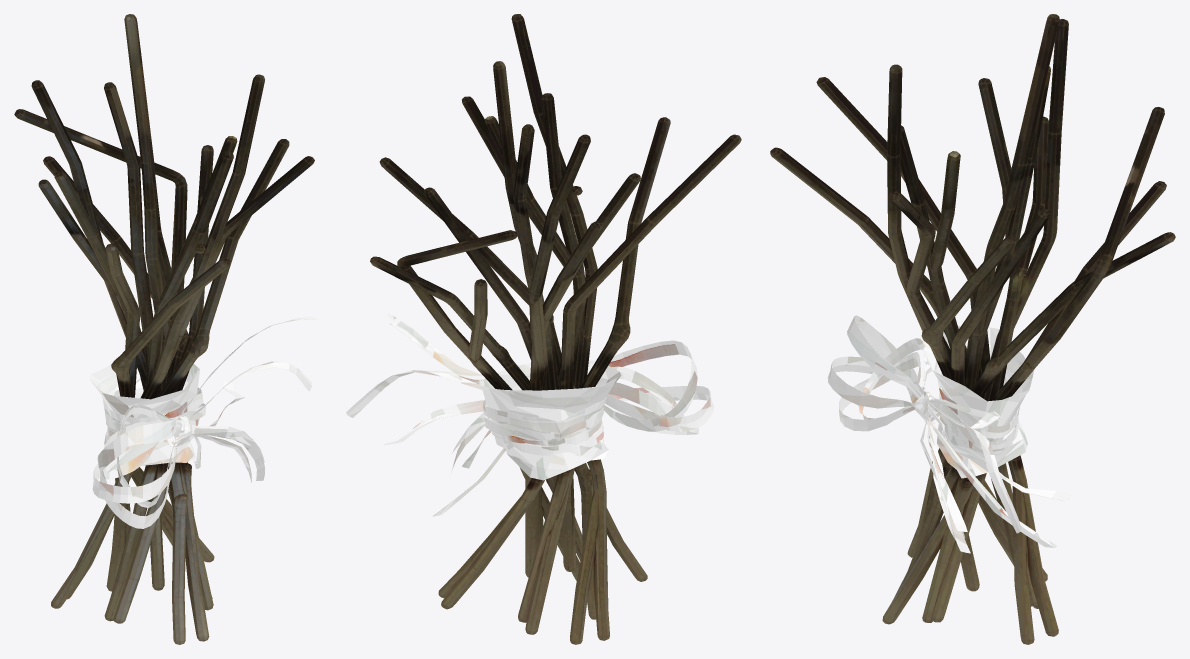
File: wedding.glb
3 views of the same model, side by side, from view 1: azimuth 30°, elevation 25°; view 2: azimuth 150°, elevation 25°; view 3: azimuth 270°, elevation 25° (orthographic). The views are drawn at different scales.
Visible parts, largest first — view 1: Stems, Ribbons_006, Ribbons_001, Ribbons_005, Ribbons_007, Ribbons_004, Ribbons_002; view 2: Stems, Ribbons_001, Ribbons_002, Ribbons_006, Ribbons_005, Ribbons_007, Ribbons_004; view 3: Stems, Ribbons_001, Ribbons_006, Ribbons_007, Ribbons_005, Ribbons_002, Ribbons_004.
Part boxes in pixels (box(x1,y1,x2,y2)): Stems: box(14, 14, 314, 644); Ribbons_006: box(97, 381, 264, 480); Ribbons_001: box(89, 364, 199, 465); Ribbons_005: box(92, 316, 317, 503); Ribbons_007: box(117, 361, 311, 507); Ribbons_004: box(99, 422, 251, 528); Ribbons_002: box(102, 387, 205, 444); Stems: box(370, 14, 741, 644); Ribbons_001: box(479, 360, 621, 480); Ribbons_002: box(482, 396, 606, 456); Ribbons_006: box(384, 340, 697, 475); Ribbons_005: box(384, 313, 714, 454); Ribbons_007: box(346, 366, 676, 516); Ribbons_004: box(462, 382, 698, 468); Stems: box(770, 14, 1175, 644); Ribbons_001: box(923, 326, 1033, 478); Ribbons_006: box(847, 315, 1070, 553); Ribbons_007: box(858, 338, 1057, 547); Ribbons_005: box(827, 356, 1001, 531); Ribbons_002: box(937, 378, 1019, 463); Ribbons_004: box(839, 352, 964, 540).
Size of the model in its own units: 0.1574 by 0.2882 by 0.1732.
Materials: 2 (2 with a texture image).
